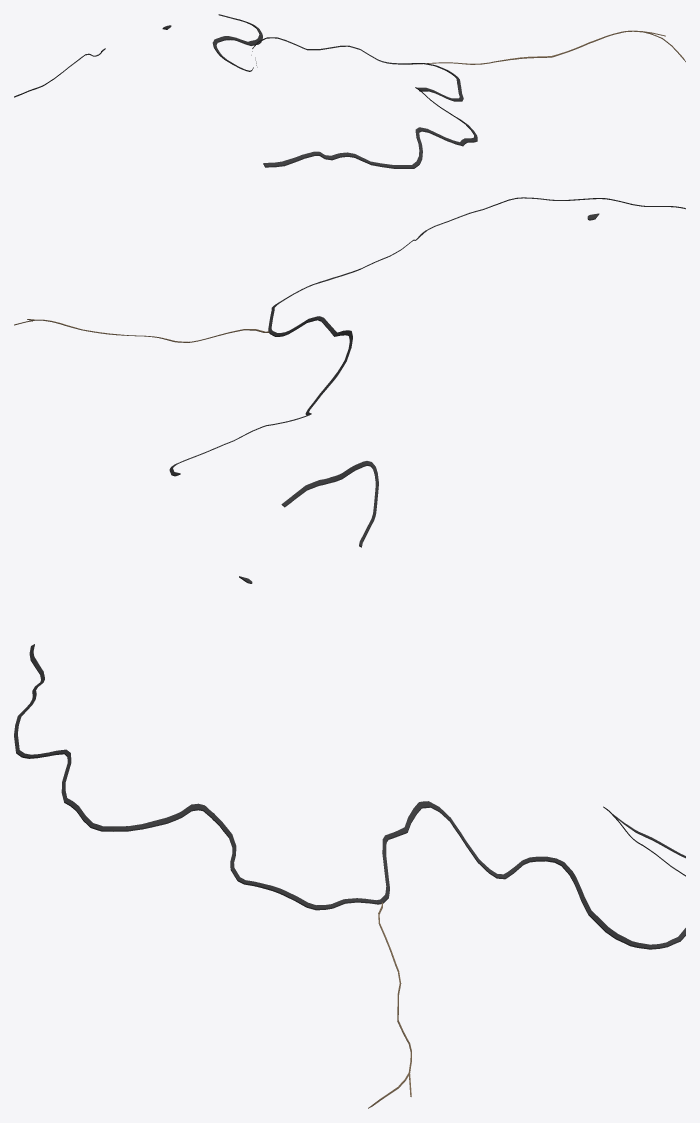
The picture shows the model from 3 angles, top to bottom: view 1: azimuth 30°, elevation 25°; view 2: azimuth 150°, elevation 25°; view 3: azimuth 270°, elevation 25°; orthographic projection. The views are drawn at different scales.
Size of the model in its own units: 587 by 230 by 555.
